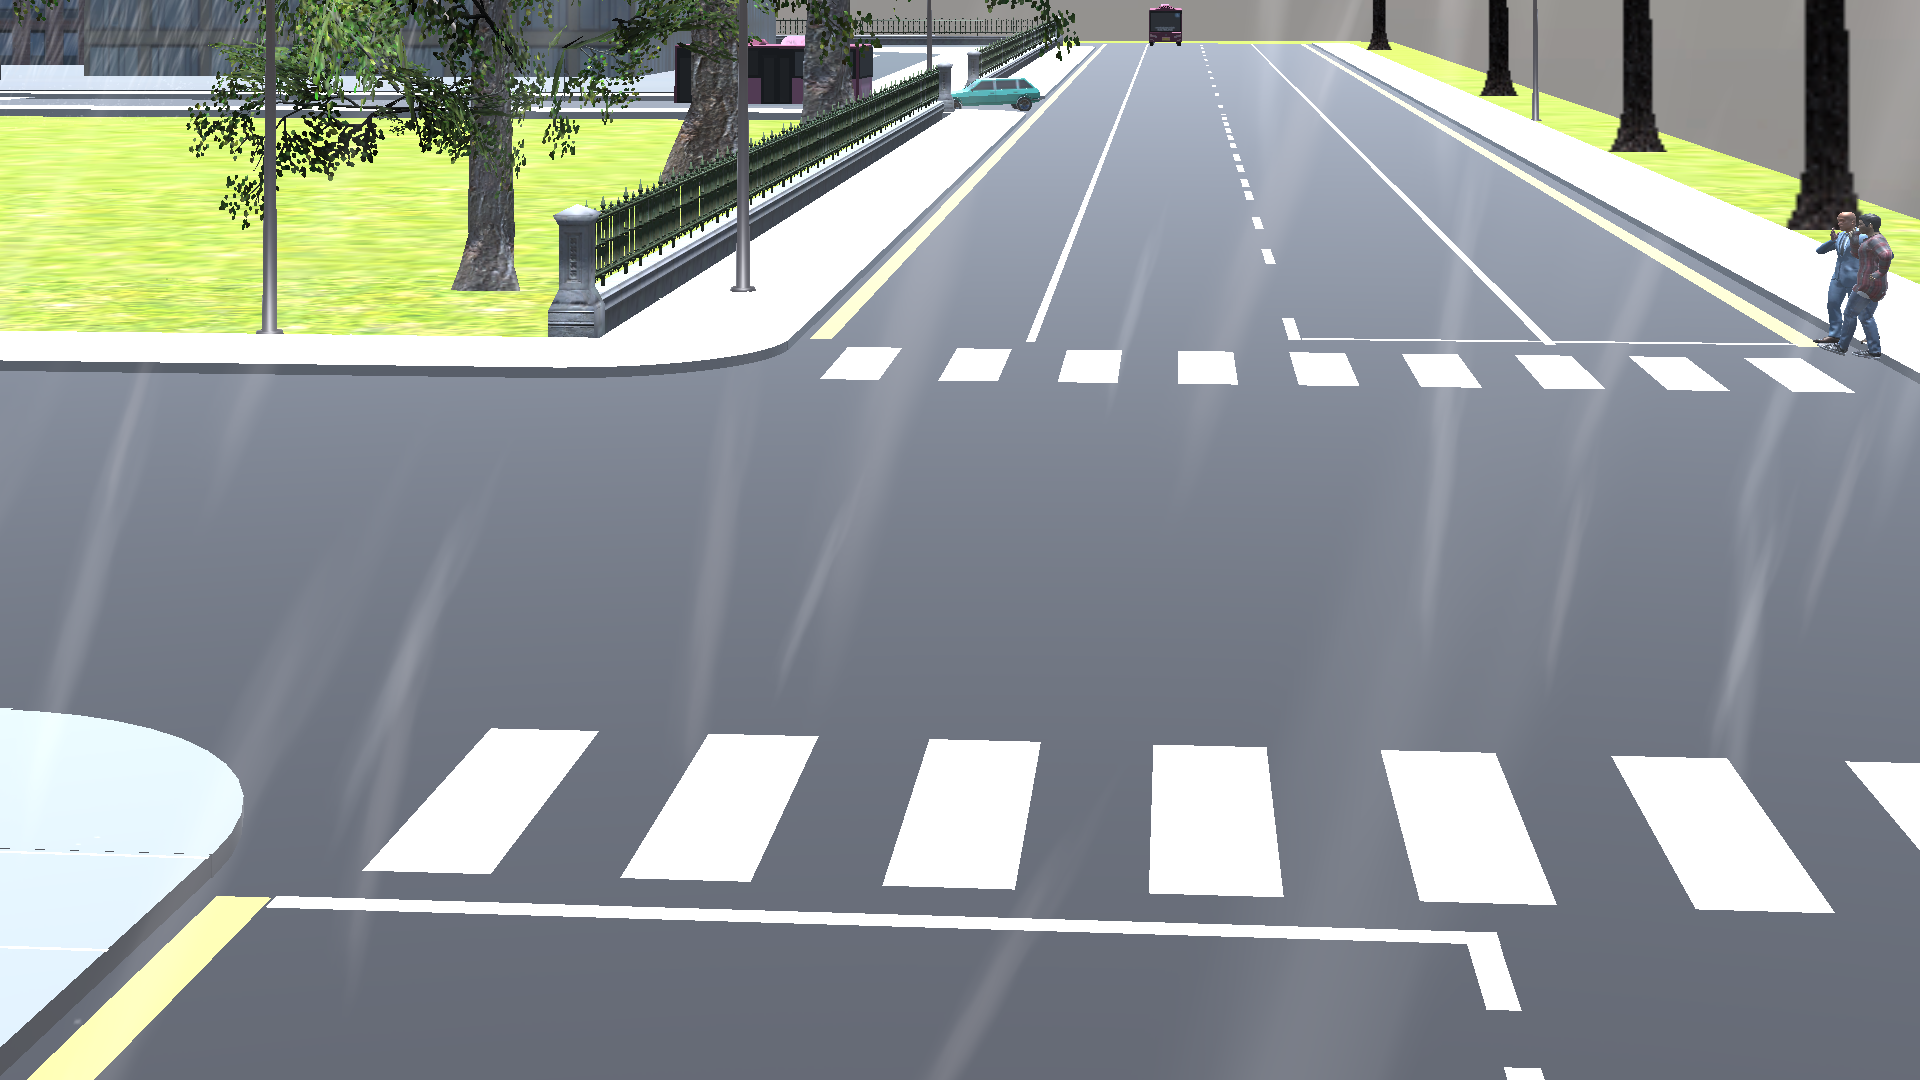pedestrian: (1854, 211, 1906, 356), (1811, 207, 1853, 353)
